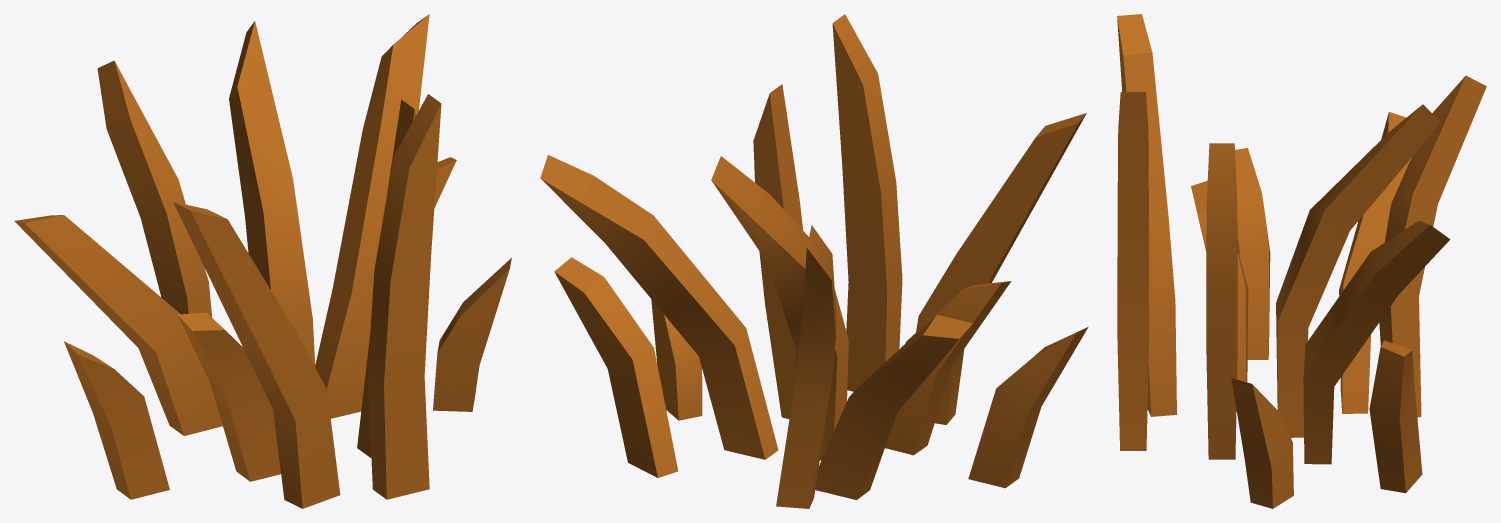
Rendered from grass.glb.
3 views of the same model, side by side, from view 1: azimuth 30°, elevation 25°; view 2: azimuth 150°, elevation 25°; view 3: azimuth 270°, elevation 25° (orthographic). The views are drawn at different scales.
Parts seen in each view (by area): view 1: Grass_1; view 2: Grass_1; view 3: Grass_1.
Part boxes in pixels (left/top/right/bottom): Grass_1: left=14, top=14, right=511, bottom=508; Grass_1: left=540, top=14, right=1088, bottom=508; Grass_1: left=1117, top=14, right=1486, bottom=508.
Bounding box in the file's own units: 1.27 × 0.9905 × 0.9104.
Materials: 1 (1 with a texture image).
